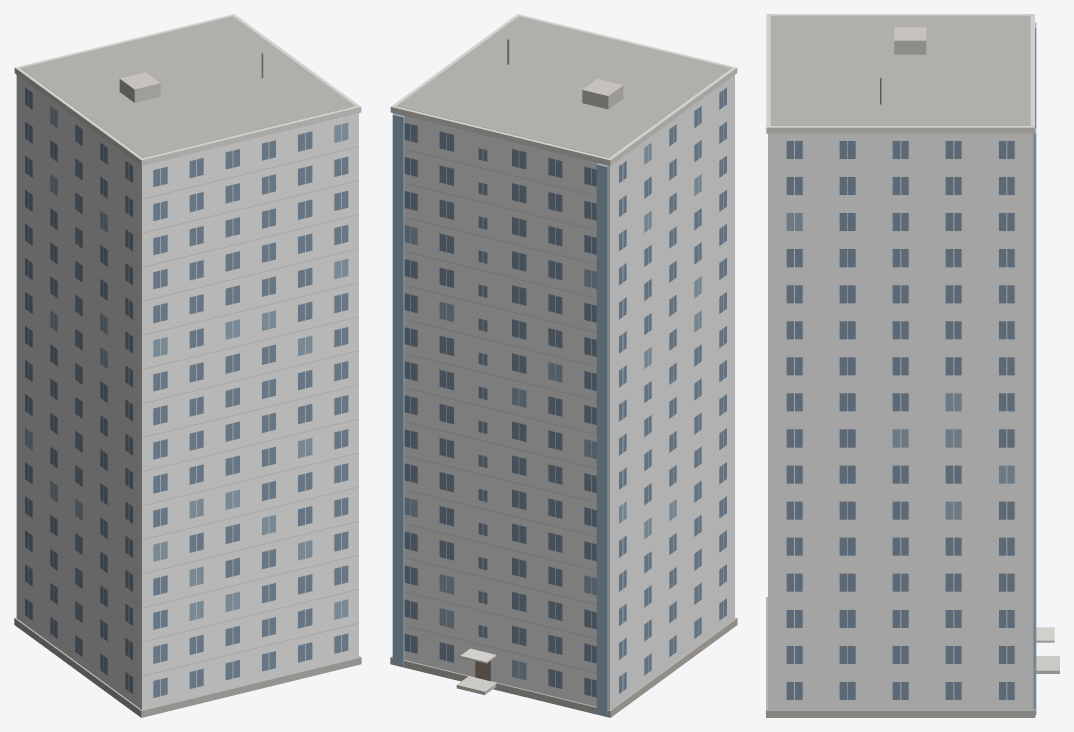
Rendered from tower_16.glb.
3 renders of one model, left to right at view 1: azimuth 30°, elevation 25°; view 2: azimuth 150°, elevation 25°; view 3: azimuth 270°, elevation 25°, orthographic. The views are drawn at different scales.
Parts seen in each view (by area): view 1: Tower16; view 2: Tower16; view 3: Tower16.
Part boxes in pixels (<box>): Tower16: <box>14,14,361,717</box>; Tower16: <box>390,14,737,717</box>; Tower16: <box>766,14,1059,717</box>.
Size of the model in its own units: 20.3 by 51.3 by 22.15.
